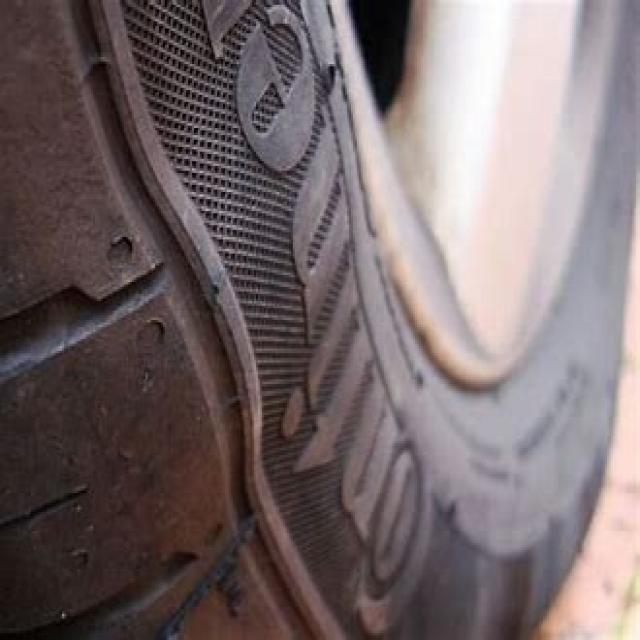Bulge: (116, 197, 340, 497)
